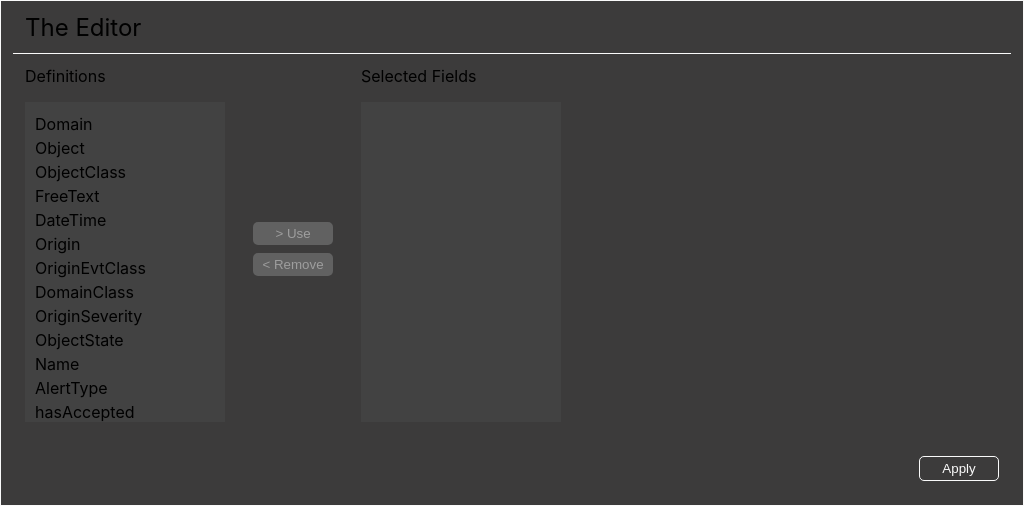
Test: field editor › should enable the use button when a list item is selected in the definitions list
Click the list item "AlertType". click: [71, 388]
box: x1=35 y1=378 x2=108 y2=398
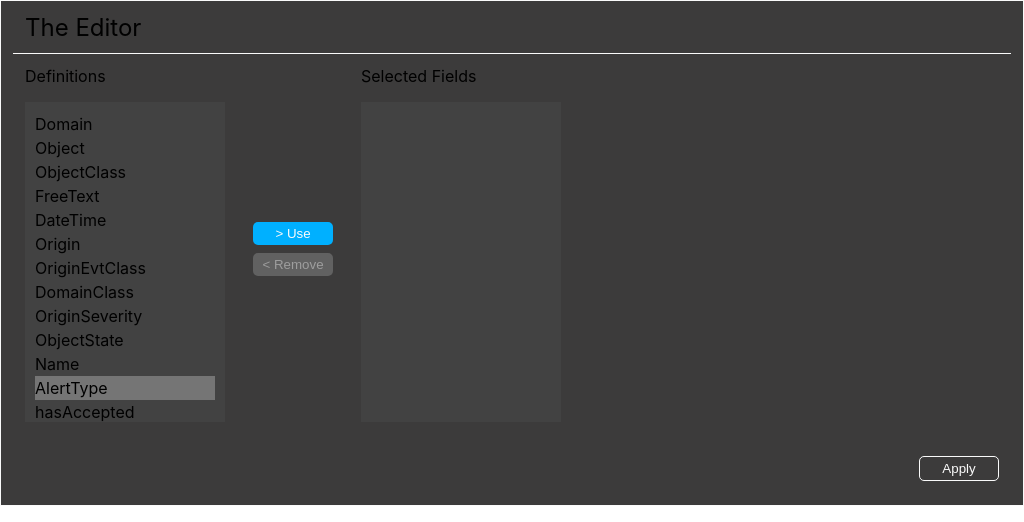
expect the button "< Remove" is disabled: met, box x1=253 y1=253 x2=333 y2=276
expect the button "> Use" is enabled: met, box x1=253 y1=222 x2=333 y2=245
